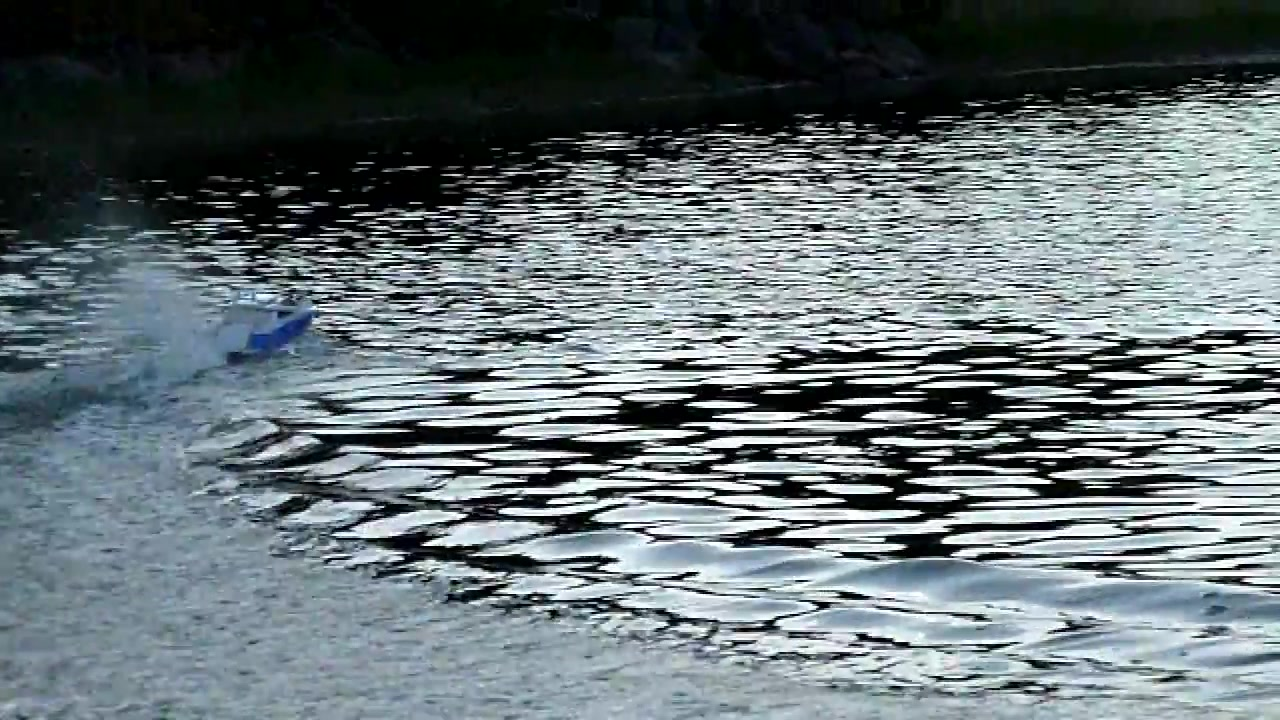boat: (205, 282, 318, 363)
